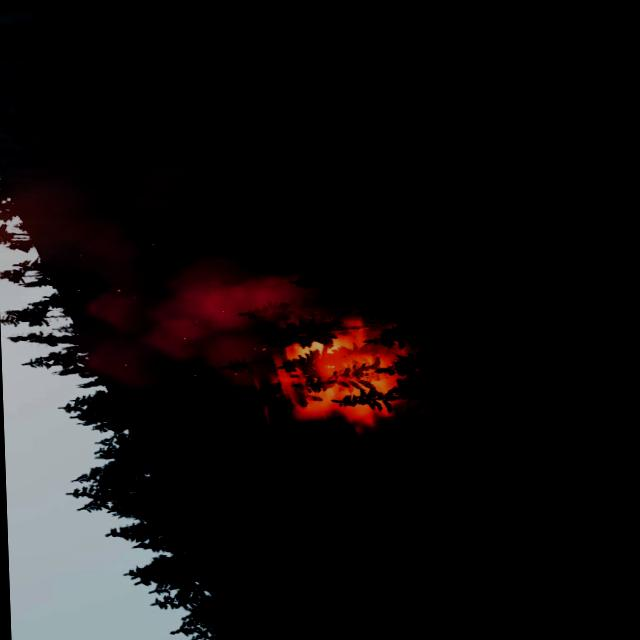fire: (272, 310, 402, 435)
smoke: (0, 134, 326, 398)
